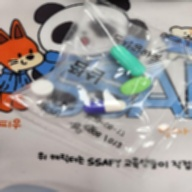러키펜정: (31, 79, 54, 98)
씨엠지세파클러캡슐: (82, 99, 126, 115)
에르도캡슐: (110, 45, 146, 77)
휴티렌정: (120, 76, 153, 96)
